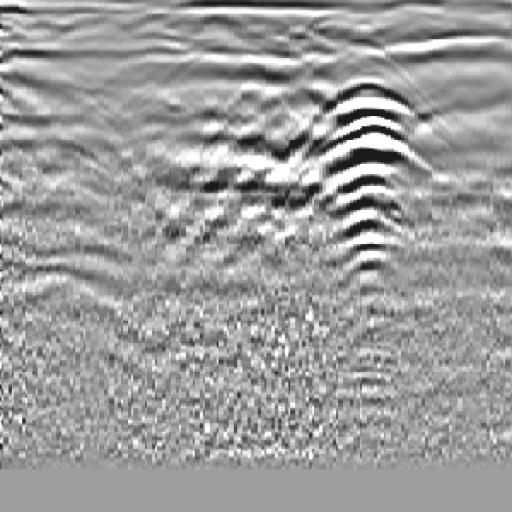metalic: (298, 47, 433, 312)
